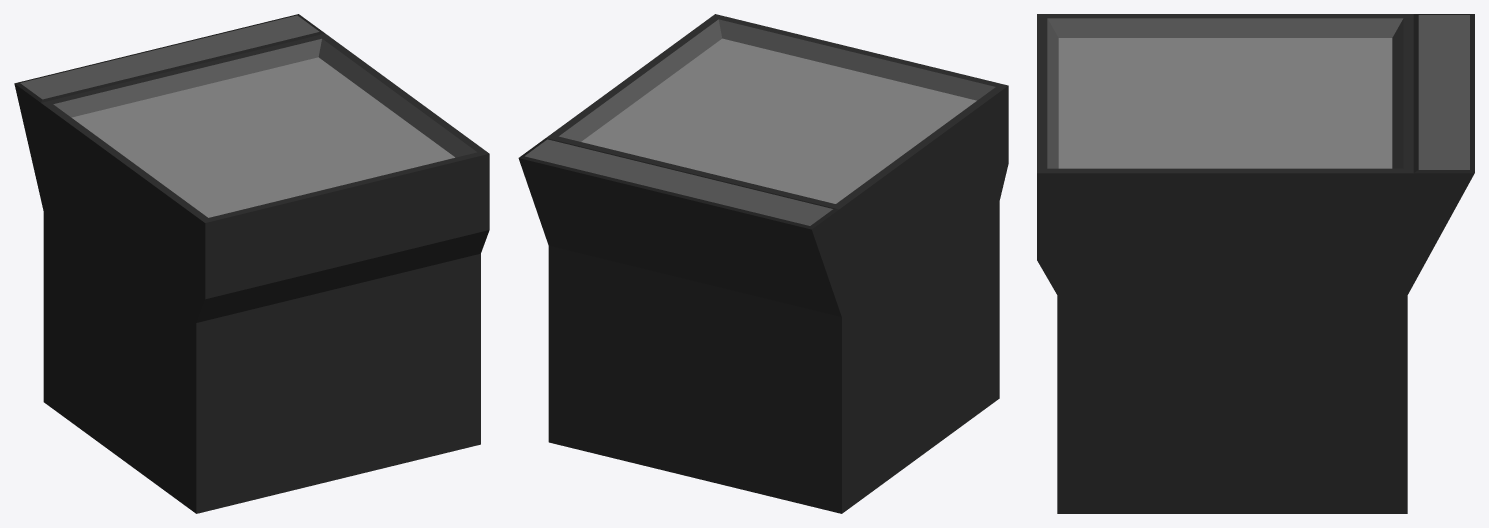
Rendered from display_base.fbx.
3 views of the same model, side by side, from view 1: azimuth 30°, elevation 25°; view 2: azimuth 150°, elevation 25°; view 3: azimuth 270°, elevation 25° (orthographic). The views are drawn at different scales.
Parts seen in each view (by area): view 1: display_base; view 2: display_base; view 3: display_base.
Part boxes in pixels (box(x1,y1,x2,y2)): display_base: box(14, 14, 489, 513); display_base: box(518, 14, 1008, 513); display_base: box(1037, 14, 1474, 513).
Size of the model in its own units: 71.73 by 71.87 by 83.36.
